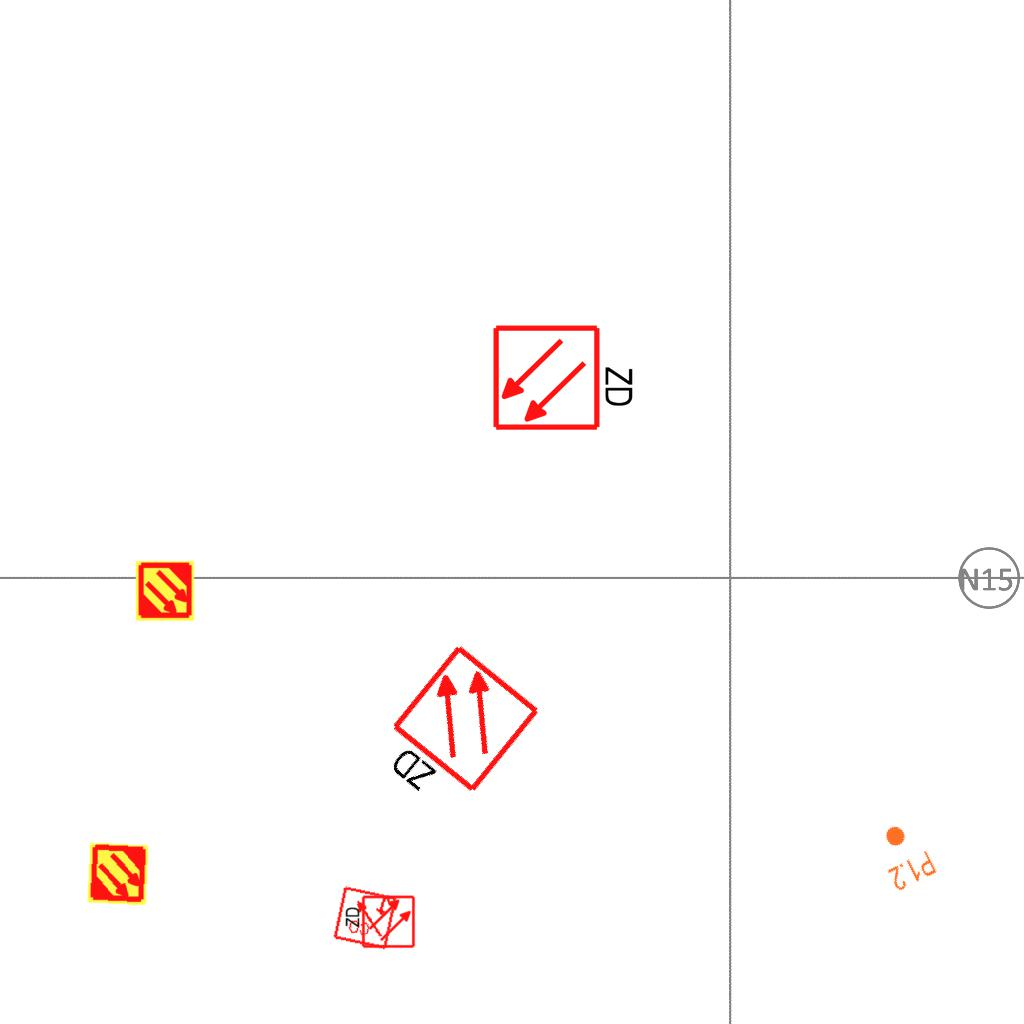ASR_Ansaugrauchmelder: (85, 841, 151, 907), (134, 560, 196, 622)
Downlight_LED_Einbauleuchten_Flur: (868, 816, 940, 894)
ROA_Rauchmelder_optisch_mit_Signalgeber_(Sockelsirene): (331, 883, 399, 951)
ZD_Melder_in_Zwischendecke_mit_Revisionsoeffnung_mind_40_x_40_cm: (363, 640, 547, 829), (491, 319, 640, 433), (342, 894, 416, 951)
